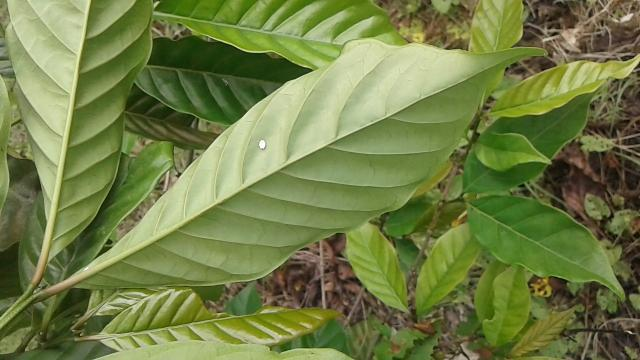healthy: (70, 36, 546, 288)
